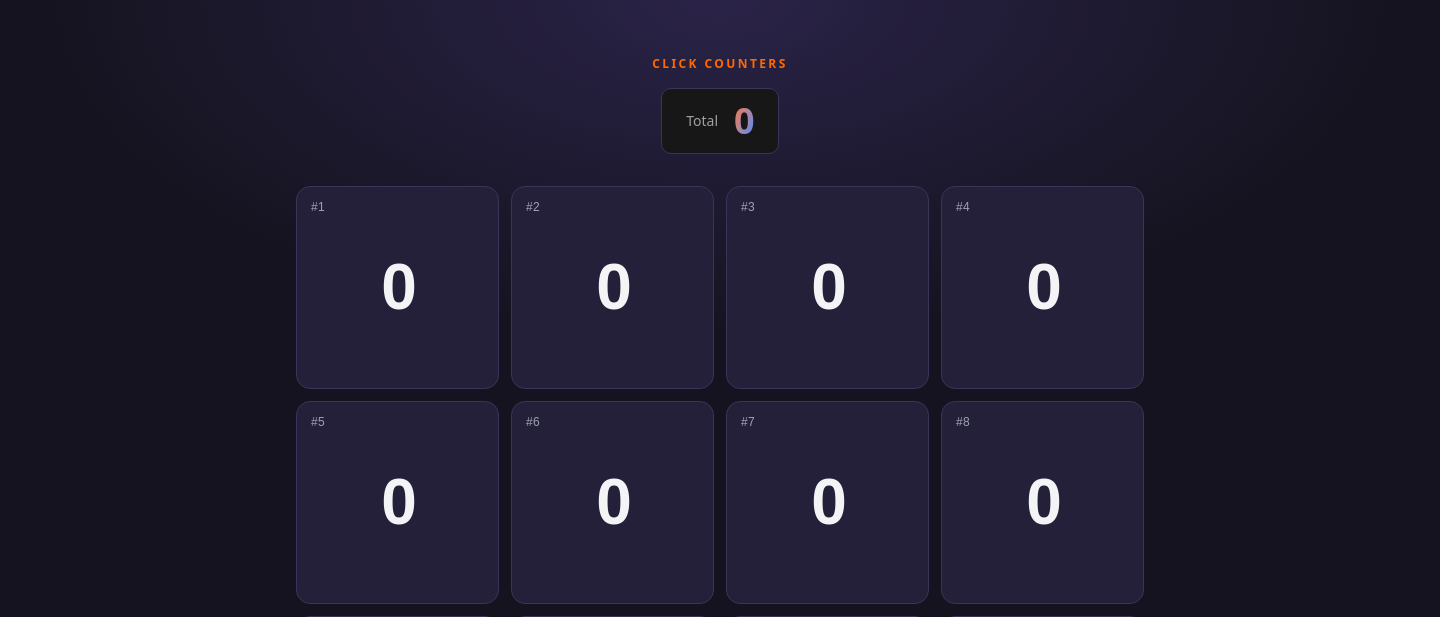
Test case: CounterApp › increments only the clicked counter and updates the total
Click the button "#1 0" at (398,288), box top-left (296, 186), bottom-right (499, 389)
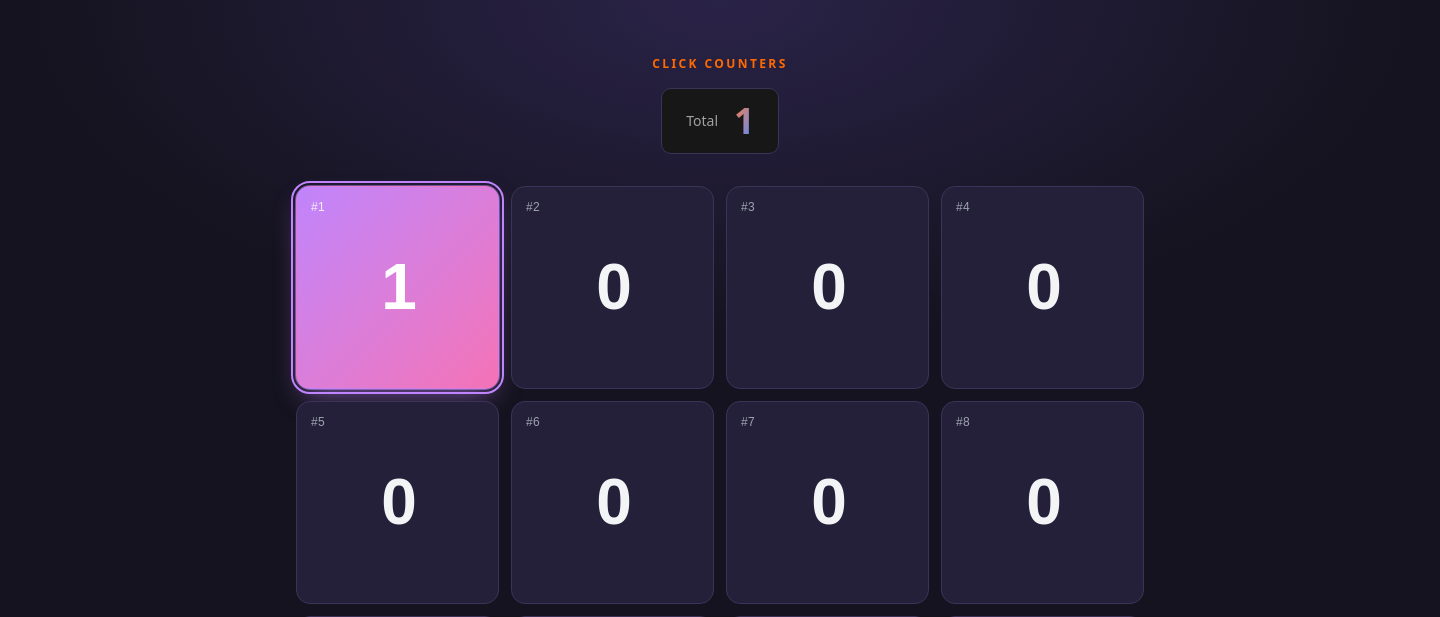
Click the button "#1 1" at (398,288), box top-left (296, 186), bottom-right (499, 389)
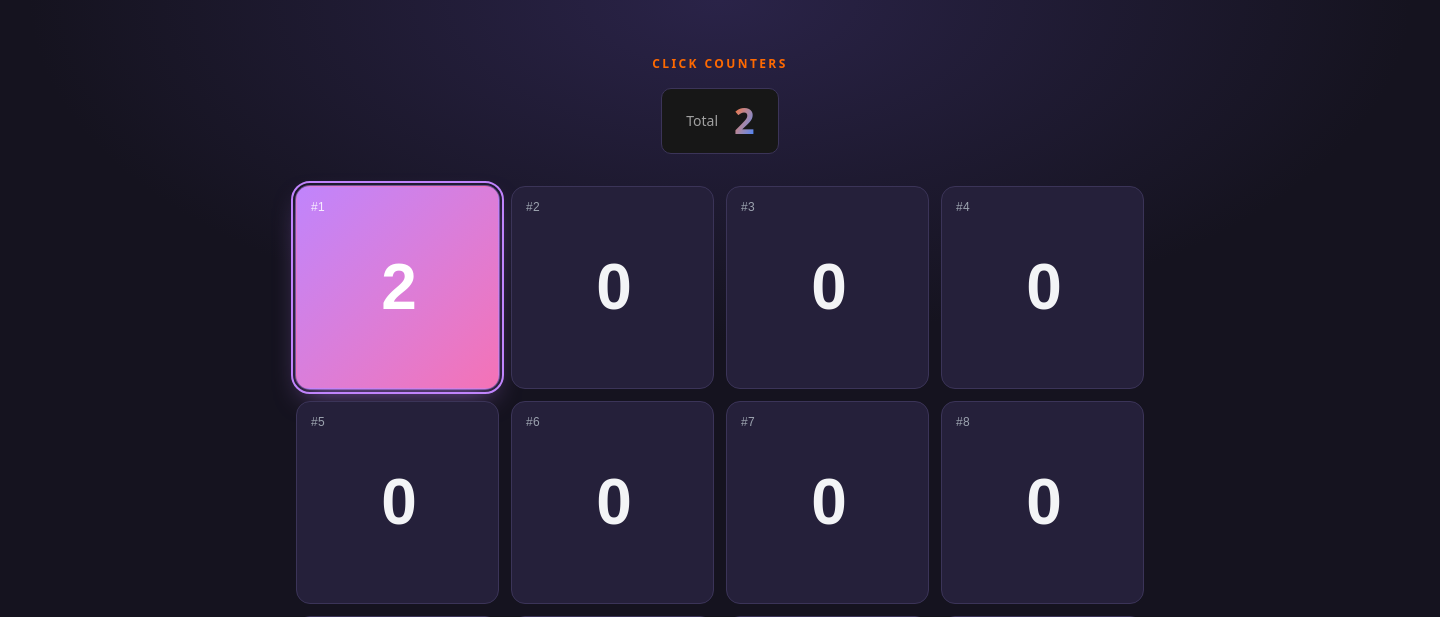
expect the 2nd text "2" is shown: met, box top-left (381, 276), bottom-right (414, 299)
expect the text with test id "total-value" reads "2": met, box top-left (734, 96), bottom-right (754, 145)
